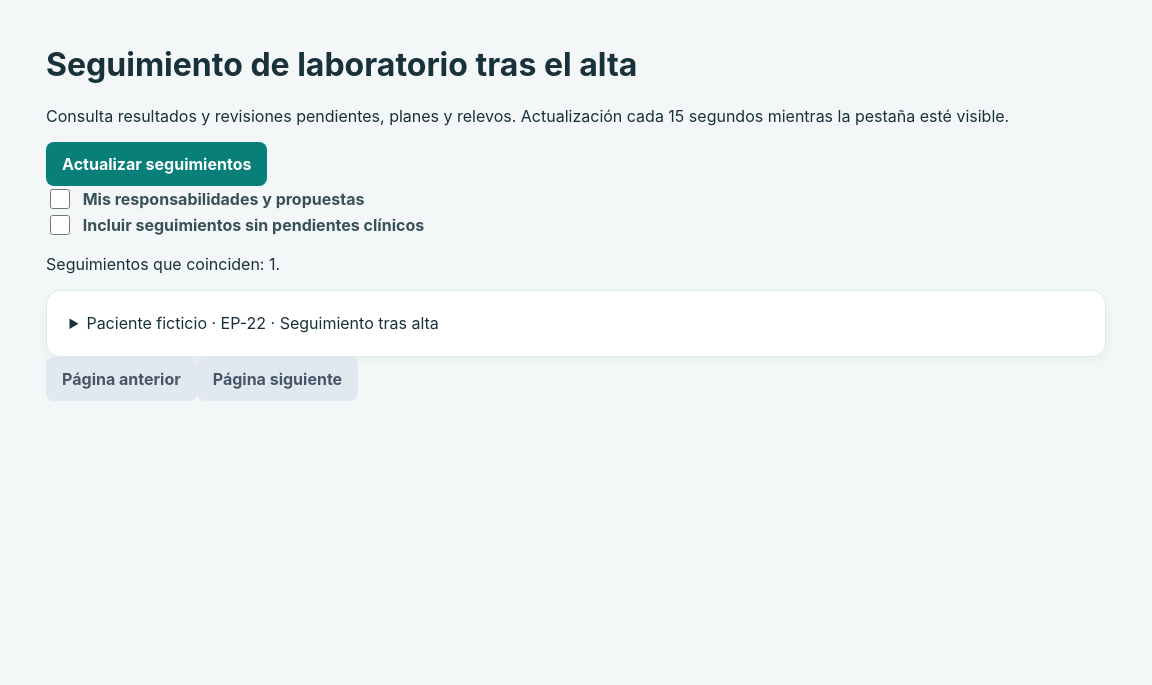
un caso fuera del filtro conserva el borrador y bloquea el ciclo anterior
The image size is (1152, 685).
Click the heading "Paciente ficticio · EP-22 · Seguimiento tras alta" at x=263, y=323, box [86,313,439,333]
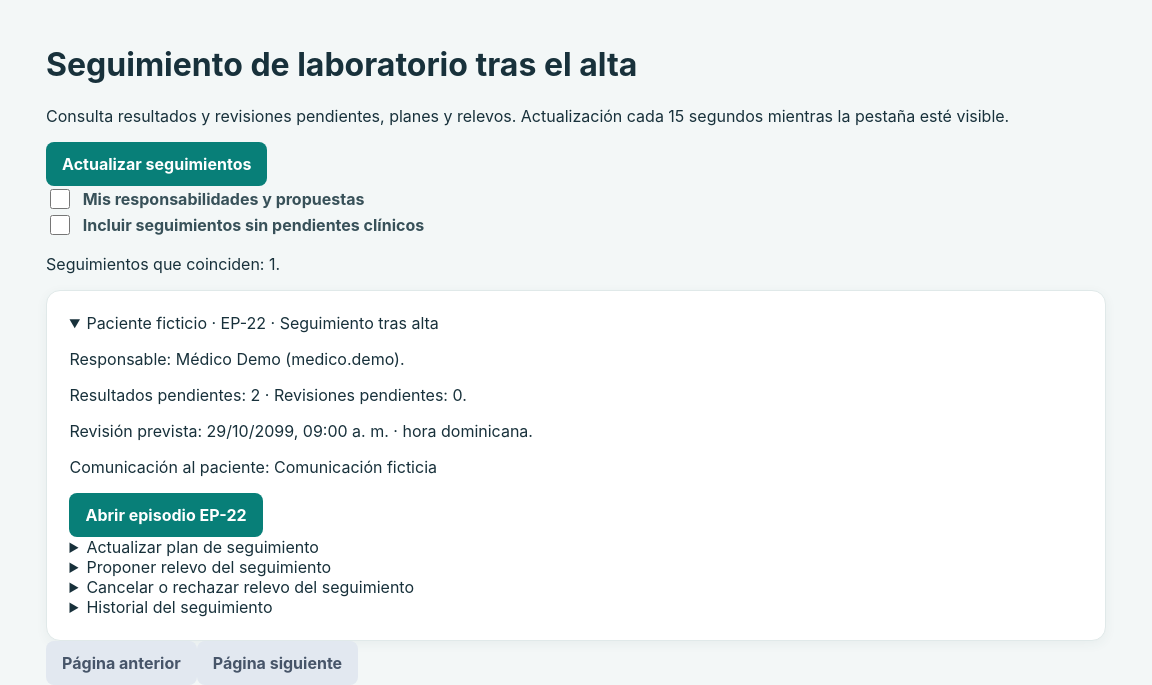
Click the heading "Proponer relevo del seguimiento" at x=209, y=567, box [86,557,331,577]
(page scrolled)
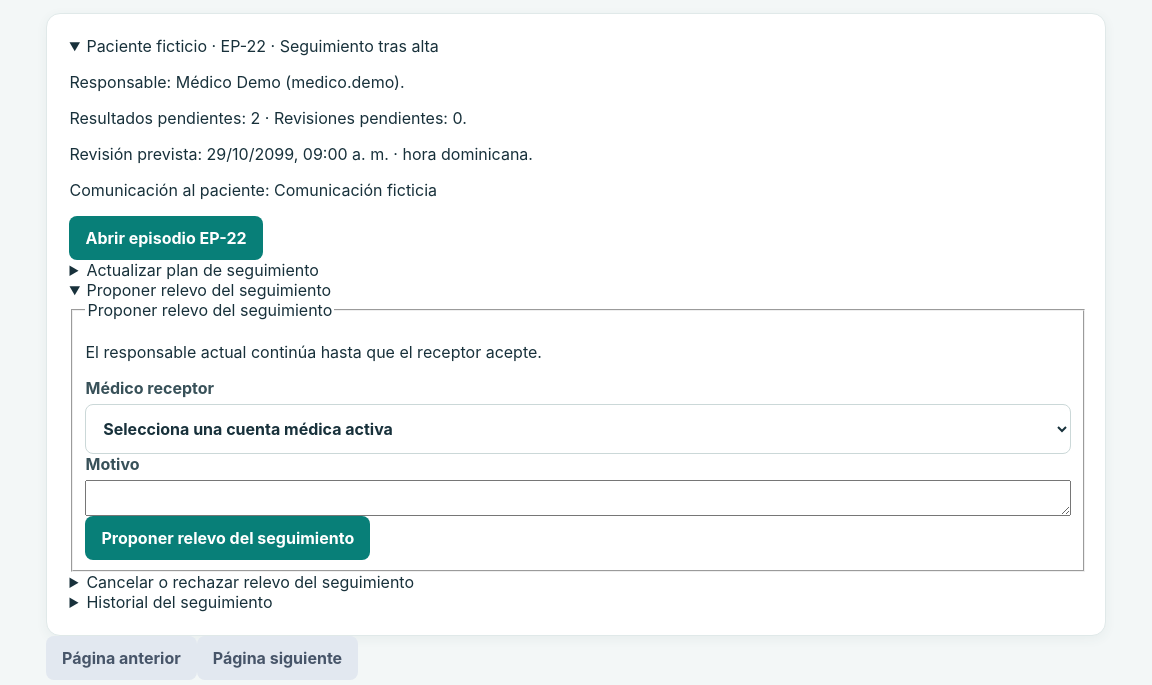
Type "Relevo ficticio de seguimiento" into the text box labelled "Motivo" at x=578, y=498, box [86,480,1071,516]
(page scrolled)
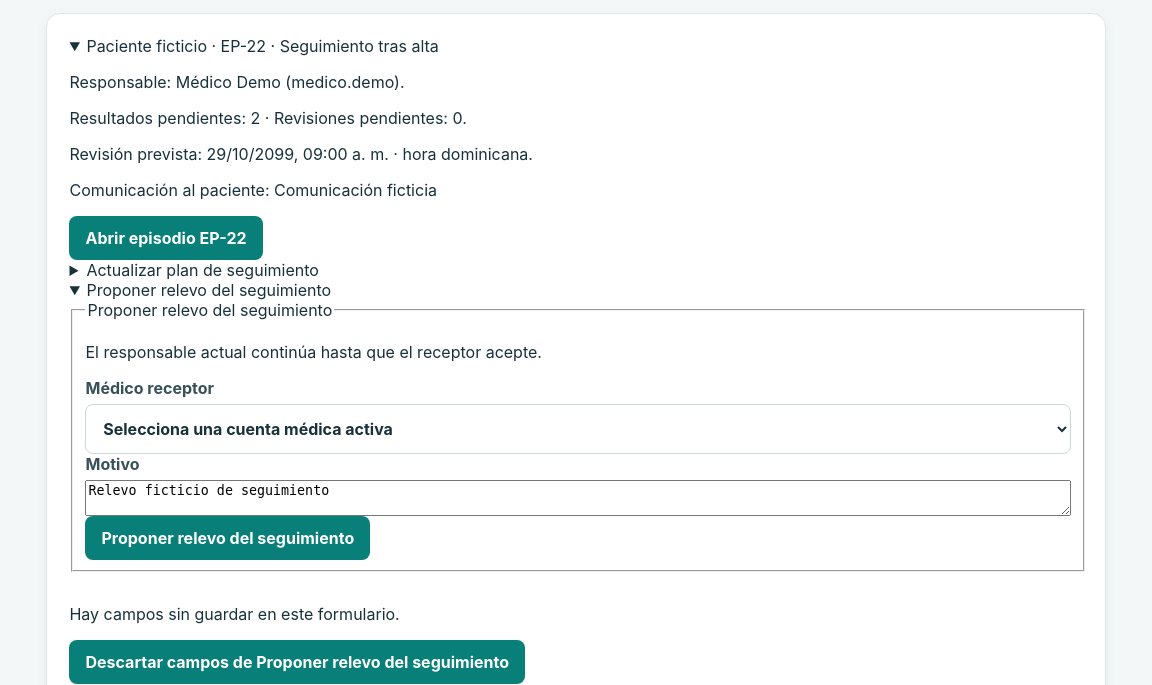
Select "Médico Relevo (medico.relevo)" in the dropdown labelled "Médico receptor" at x=578, y=429, box [86,404,1071,454]
(page scrolled)
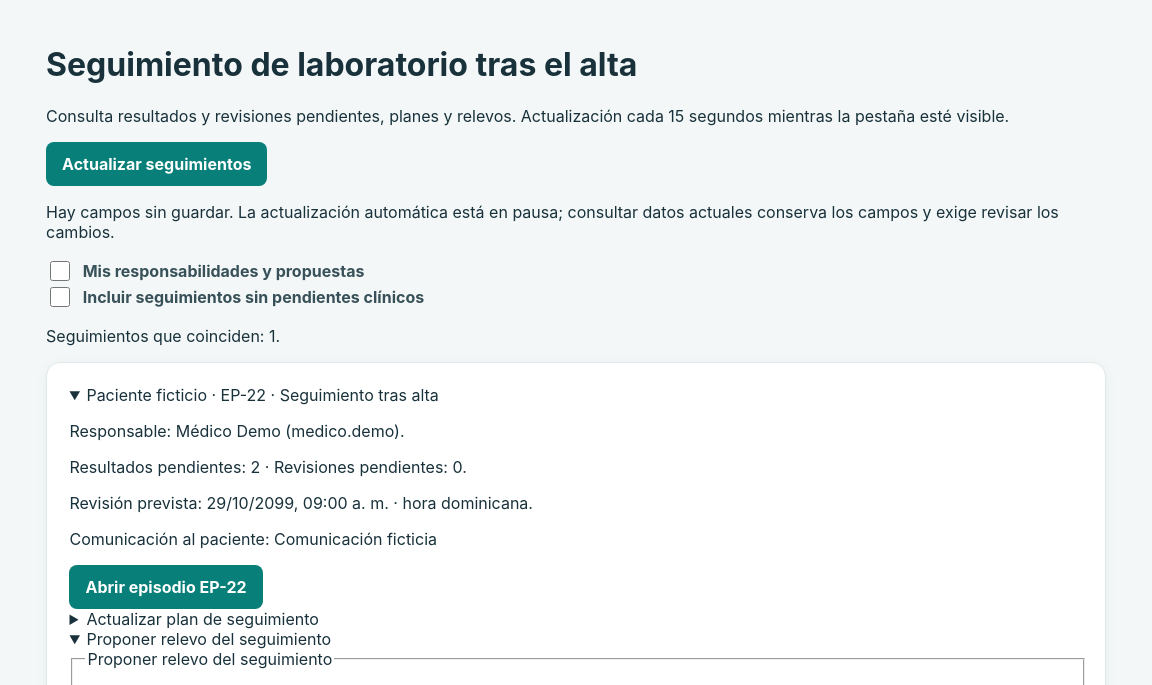
Click the button "Actualizar seguimientos" at x=157, y=164, box [46,142,267,186]
(page scrolled)
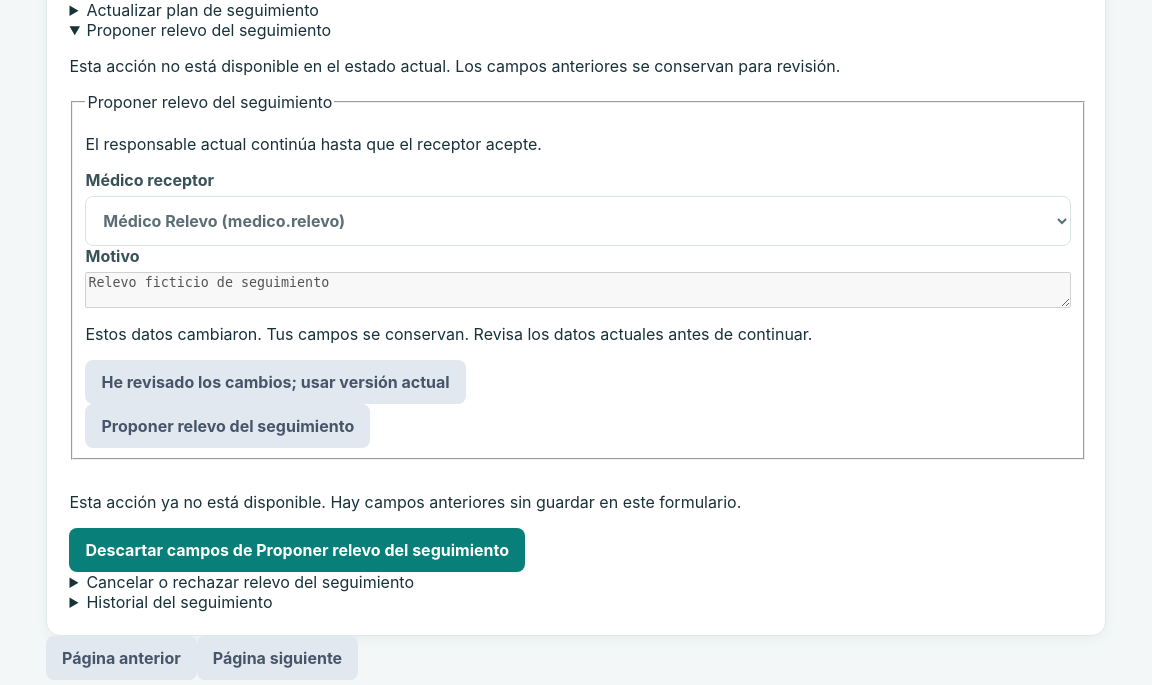
Check: the button "Proponer relevo del seguimiento" is disabled, box [86,404,370,448]
